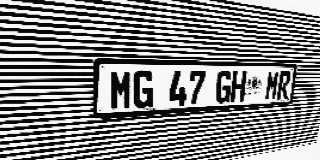4: (168, 71, 188, 107)
7: (187, 71, 206, 105)
G: (133, 70, 154, 109), (215, 71, 232, 104)
H: (230, 71, 247, 103)
M: (110, 70, 133, 111), (264, 71, 280, 100)
R: (276, 71, 291, 99)
